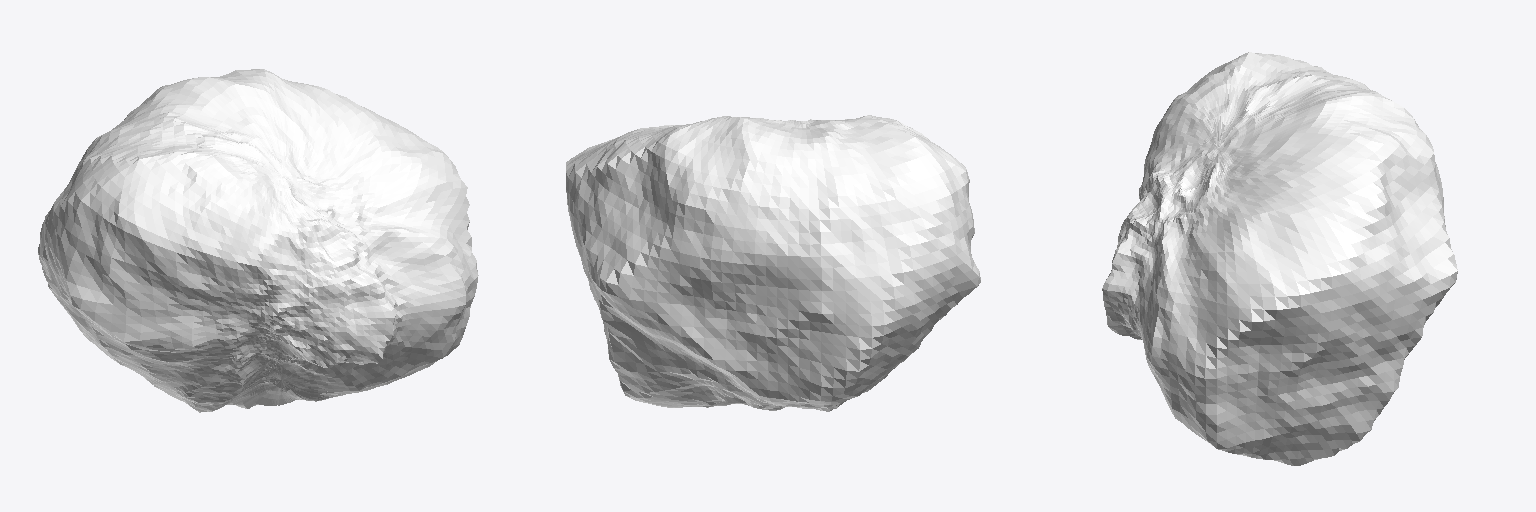
Rendered from coton3_grand.obj.
3 views of the same model, side by side, from view 1: azimuth 30°, elevation 25°; view 2: azimuth 150°, elevation 25°; view 3: azimuth 270°, elevation 25° (orthographic).
Parts seen in each view (by area): view 1: Terrain.1; view 2: Terrain.1; view 3: Terrain.1.
Boxes of the visible parts, x1,y1,x2,y2 form: Terrain.1: [38, 69, 478, 412]; Terrain.1: [566, 115, 980, 411]; Terrain.1: [1102, 52, 1457, 465].
Bounding box in the file's own units: 655 × 489 × 509.